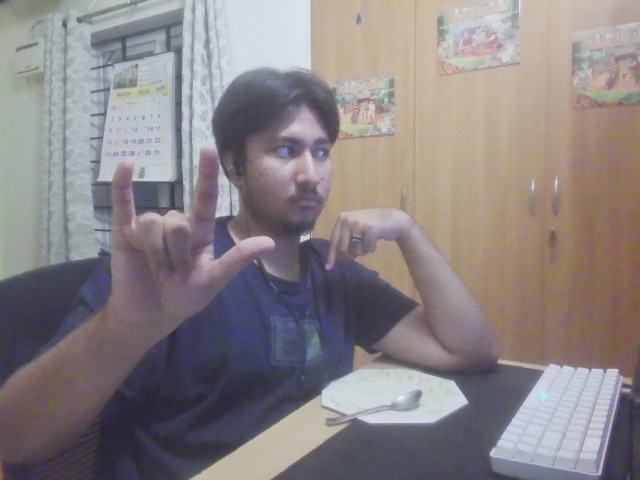iloveyou: (108, 149, 278, 339)
